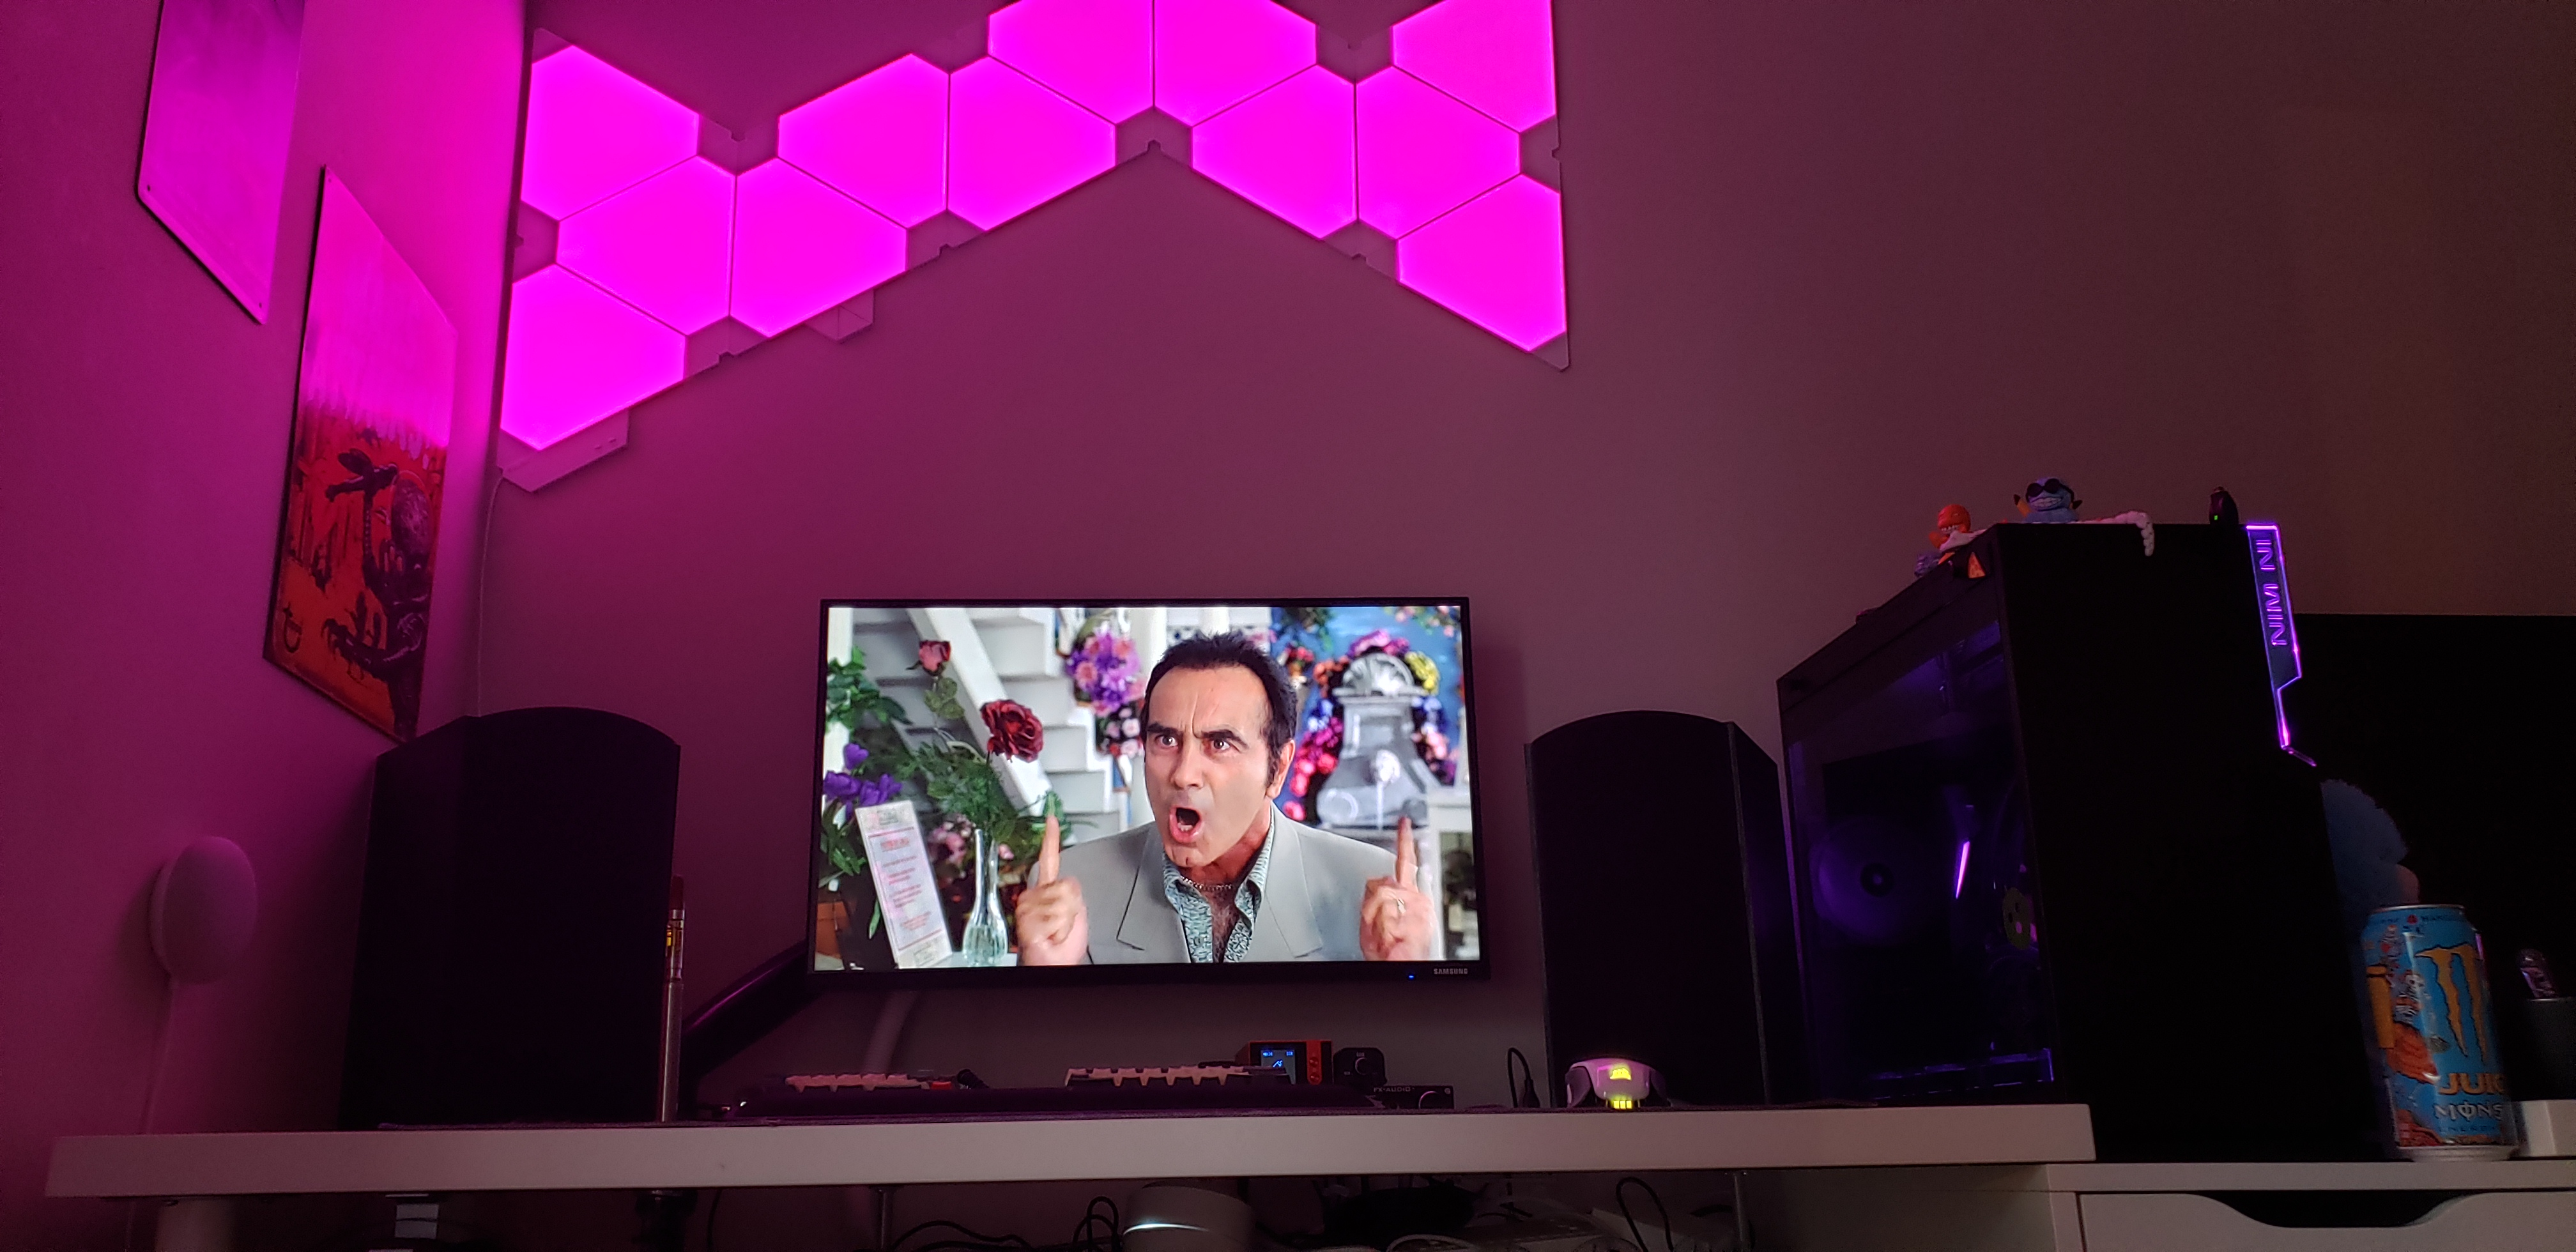Decoration (Miniature): (2004, 467, 2093, 531), (1920, 496, 1985, 560)
Desk (Generic): (0, 1102, 2109, 1193)
Desktop (Generic): (1771, 476, 2380, 1162)
External Sound Card (Pre-amplifier): (1357, 1083, 1457, 1111)
External Speakers (Subwoofers): (335, 698, 677, 1125), (1513, 711, 1804, 1111)
IoT Devices (Raspberry, Arduino, etc): (130, 812, 271, 1029)
Keyboard (Gaming): (739, 1056, 1360, 1122)
Monitor (Landscape): (802, 582, 1488, 983)
Mouse (Gaming): (1554, 1048, 1672, 1117)
Storage Drawer: (1993, 1129, 2576, 1249)
